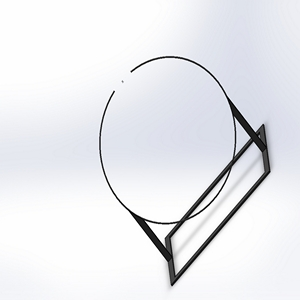circle: (97, 54, 273, 286)
